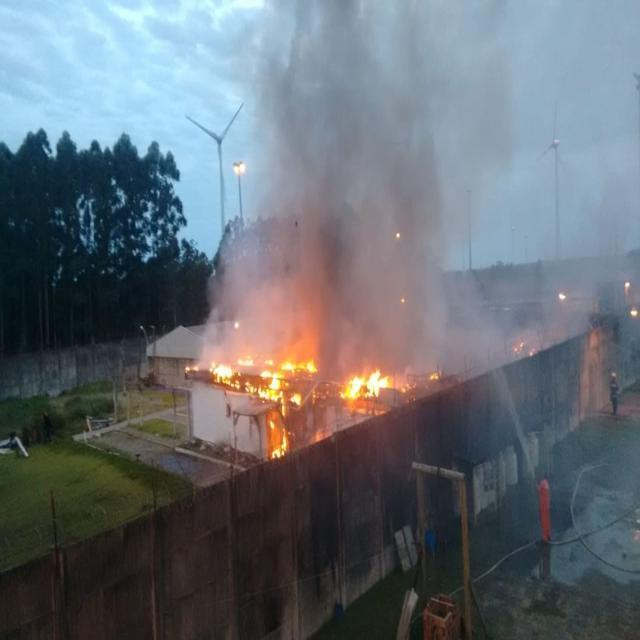Fire: (209, 346, 318, 458), (340, 368, 390, 403), (512, 339, 536, 359), (399, 379, 419, 397), (427, 371, 444, 383), (184, 365, 200, 375)
Smoke: (243, 4, 448, 320)
